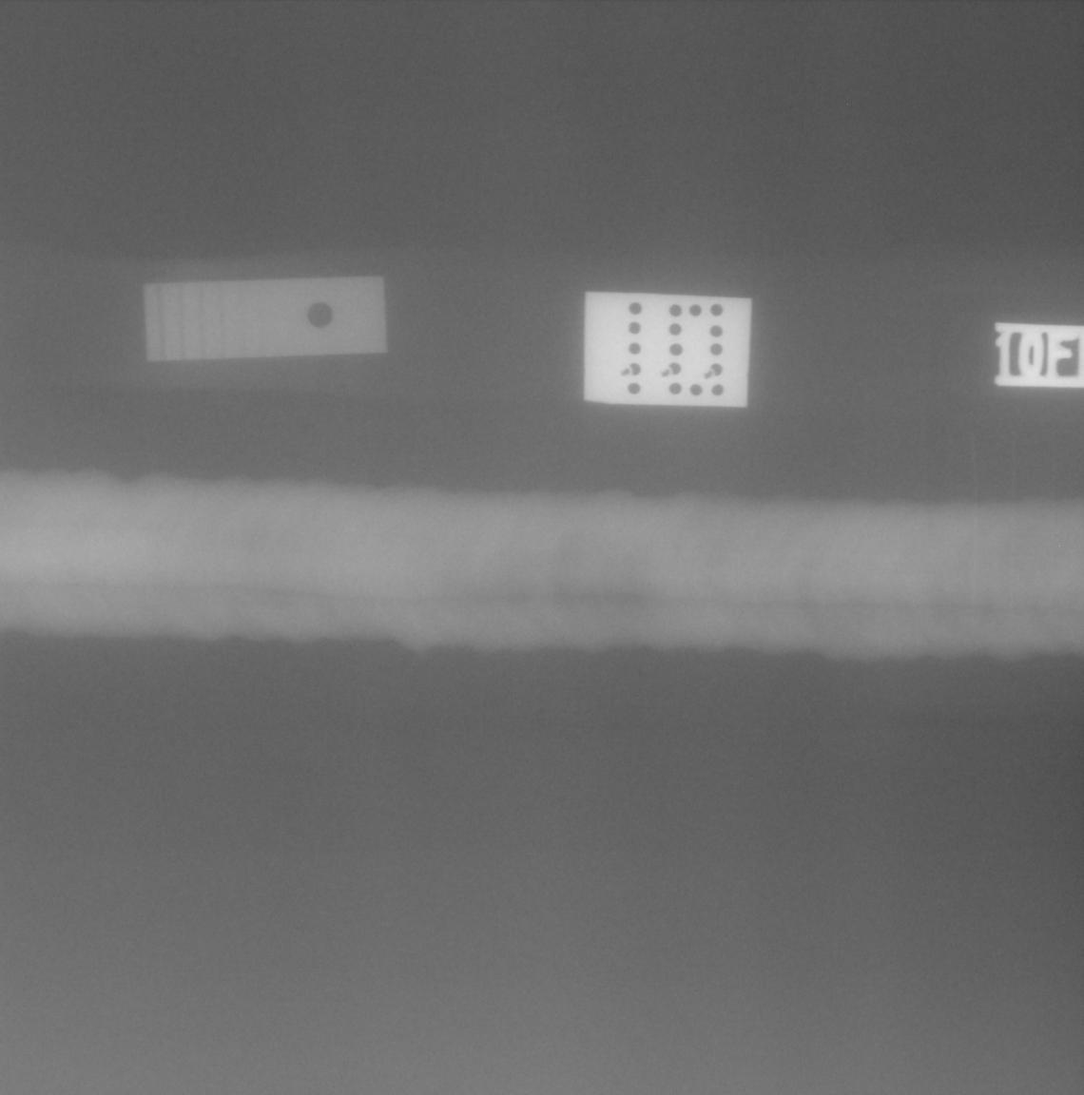Reference Standard 1: (143, 276, 388, 361)
